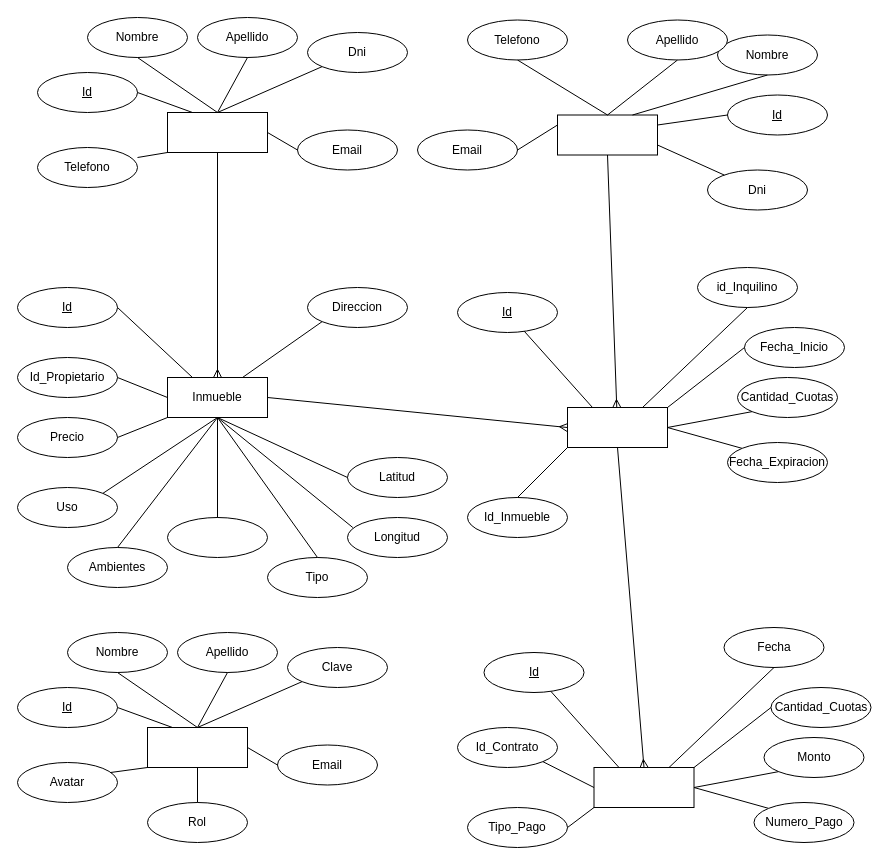
The diagram is 889 pixels wide and 865 high, and some of its shapes have lost their labels. The box of each missing label's shape, as (x1, y1, x2, y2) in pixels:
Contrato: (566, 406, 668, 448)
Estado: (166, 516, 268, 558)
Inquilino: (556, 114, 658, 155)
Pago: (593, 766, 694, 808)
Propietario: (166, 112, 268, 152)
Usuario: (146, 726, 248, 768)
